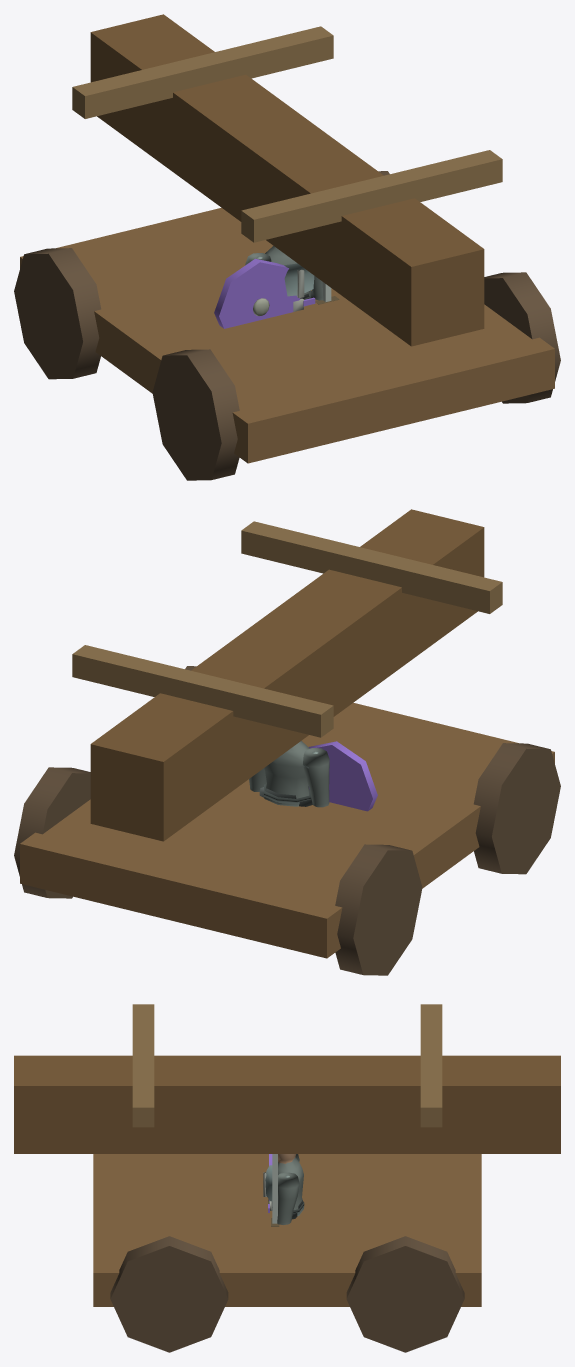
File: battering_ram_team2.glb
3 renders of one model, top to bottom at view 1: azimuth 30°, elevation 25°; view 2: azimuth 150°, elevation 25°; view 3: azimuth 270°, elevation 25°, orthographic. The views are drawn at different scales.
Visible parts, largest first — view 1: part_11, part_16, part_13, part_12, part_18, part_17, part_15, part_3, part_0; view 2: part_11, part_16, part_12, part_13, part_17, part_18, part_14, part_3, part_0, part_2; view 3: part_16, part_11, part_14, part_15, part_17, part_18, part_5, part_0.
Part boxes in pixels (x1,y1,x2,y2): part_11: (20,208,554,463); part_16: (90,14,484,346); part_13: (152,349,239,480); part_12: (14,248,101,379); part_18: (241,150,502,242); part_17: (72,26,333,118); part_15: (484,272,560,403); part_3: (214,258,300,328); part_0: (265,246,314,311); part_11: (20,703,554,958); part_16: (90,509,484,841); part_12: (335,844,422,975); part_13: (473,743,560,874); part_17: (72,645,333,737); part_18: (241,521,502,613); part_14: (14,767,90,898); part_3: (309,741,377,811); part_0: (263,741,310,806); part_2: (303,748,329,807); part_16: (14,1055,560,1153); part_11: (93,1154,481,1306); part_14: (346,1236,464,1352); part_15: (110,1236,228,1352); part_17: (420,1004,442,1127); part_18: (132,1004,154,1127); part_5: (277,1172,299,1224); part_0: (263,1157,304,1215).
Size of the model in its own units: 2.32 by 1.74 by 3.8.
